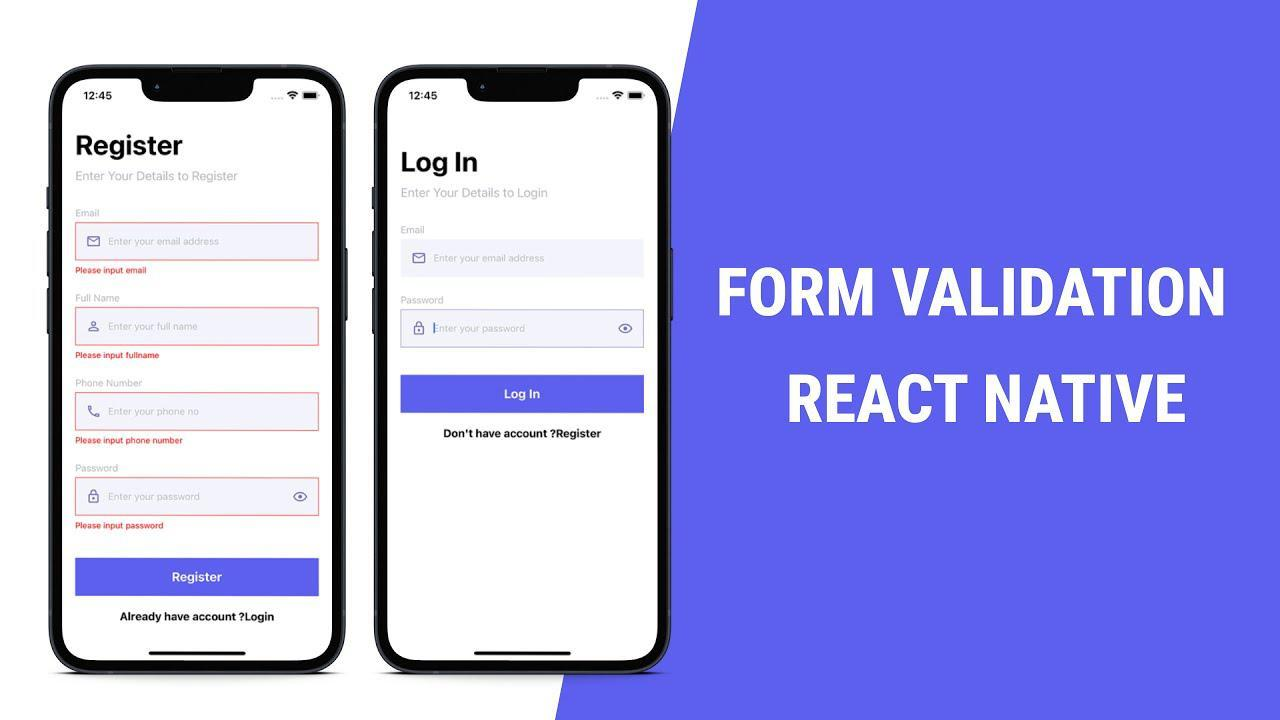button: (400, 373, 647, 417), (74, 557, 322, 598)
icon: (86, 487, 103, 507), (86, 401, 102, 420), (617, 322, 638, 336), (292, 489, 311, 504), (86, 316, 101, 335), (86, 233, 103, 249), (412, 320, 428, 337), (411, 251, 429, 265)
input: (399, 309, 648, 351), (75, 391, 321, 432), (74, 306, 322, 346), (75, 478, 322, 518), (75, 223, 321, 262), (401, 240, 646, 277)
label: (75, 436, 184, 447), (75, 521, 167, 532), (75, 350, 162, 361), (75, 267, 150, 278), (76, 377, 144, 389), (76, 292, 122, 305), (75, 462, 120, 475), (401, 295, 445, 307), (72, 205, 103, 222), (401, 225, 428, 238)
